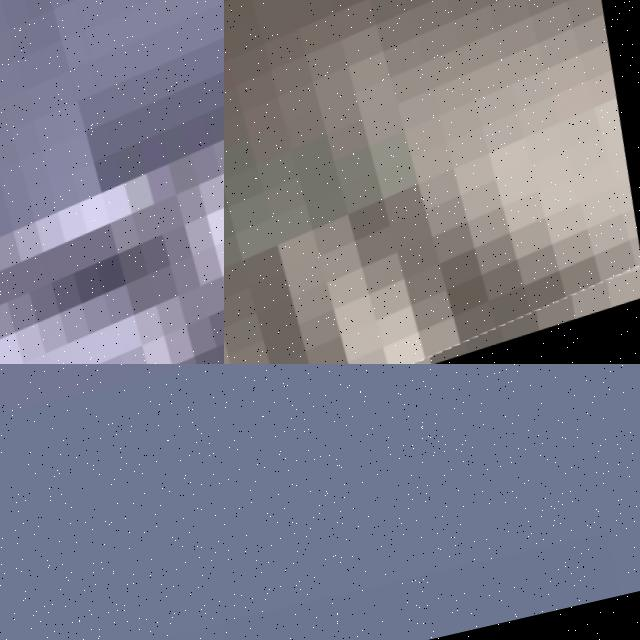0: (0, 0, 224, 364)
drone: (224, 0, 640, 364)
